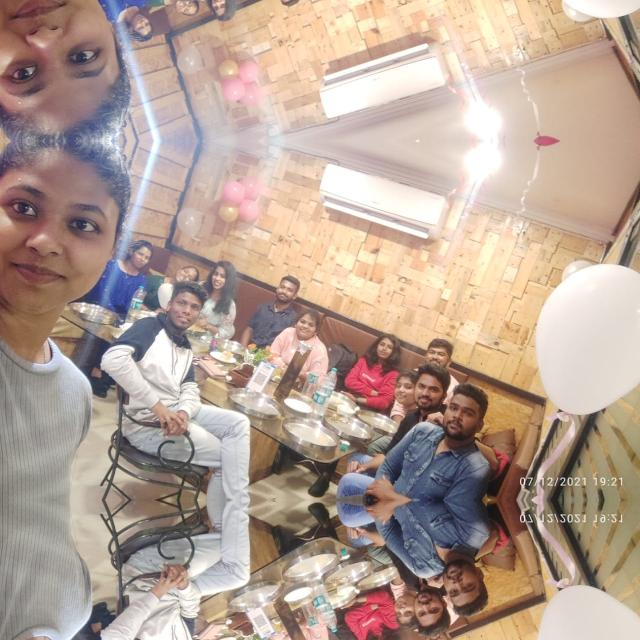person: (1, 140, 128, 500), (0, 499, 127, 640), (0, 0, 127, 140), (138, 289, 230, 463), (138, 536, 229, 640), (426, 382, 498, 500), (426, 499, 498, 617), (268, 310, 344, 384), (351, 324, 397, 416), (252, 266, 308, 326), (351, 583, 397, 640), (206, 254, 240, 328), (412, 364, 448, 420), (412, 580, 448, 634), (267, 615, 344, 640), (125, 236, 153, 296), (125, 0, 153, 44), (205, 0, 240, 26), (252, 0, 307, 14)
